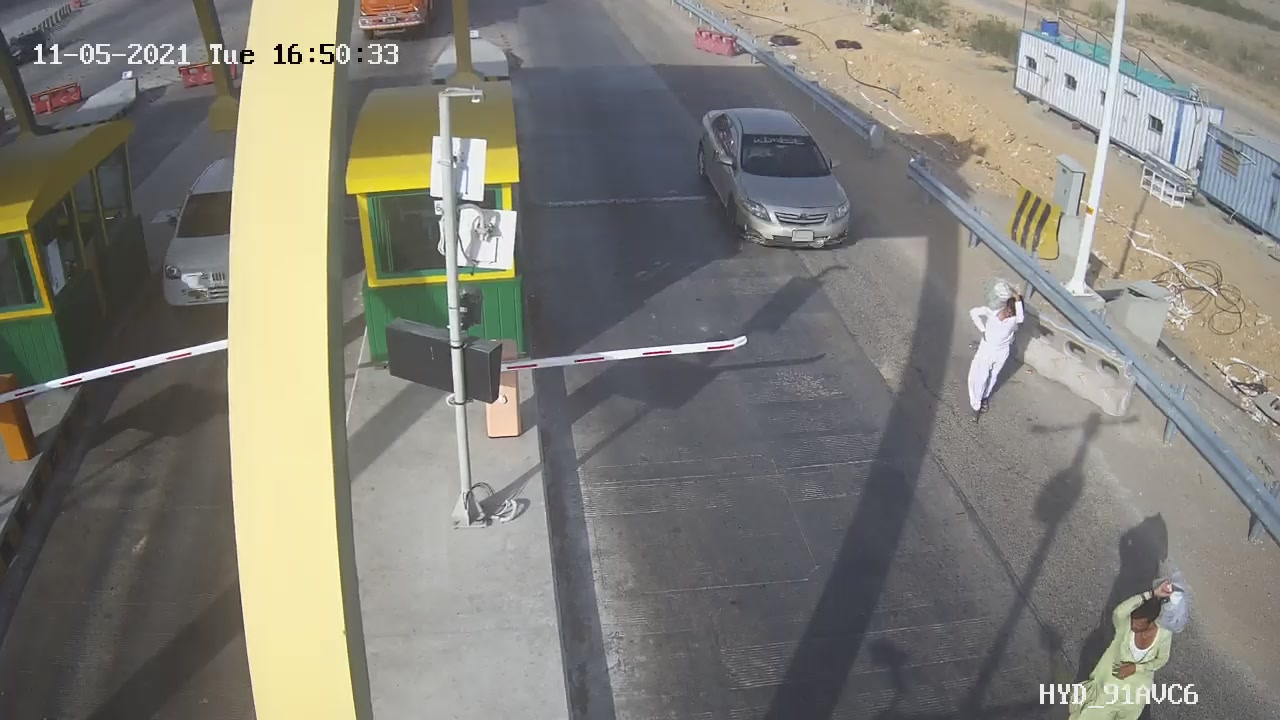F1: (678, 91, 872, 266)
